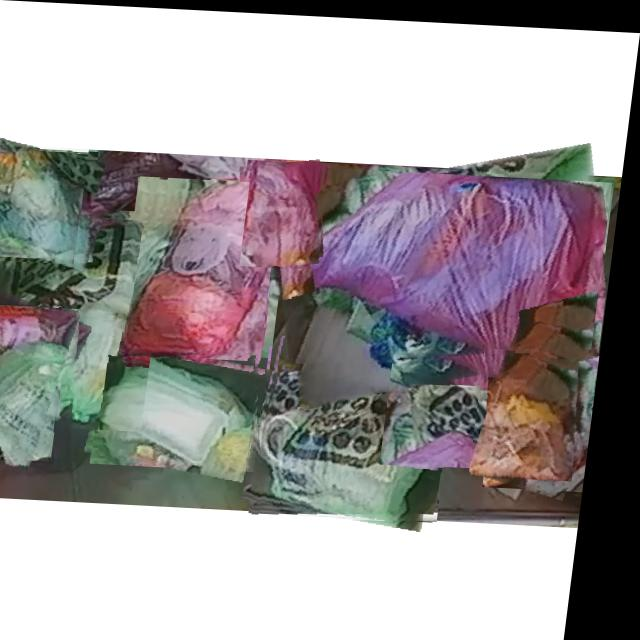general_trashbag: (0, 216, 164, 426), (272, 352, 462, 516), (108, 341, 269, 460), (392, 346, 520, 459), (0, 138, 88, 263)
other_trashbag: (286, 167, 611, 352), (132, 179, 285, 353), (481, 346, 586, 474), (248, 159, 327, 263), (0, 304, 90, 361)
